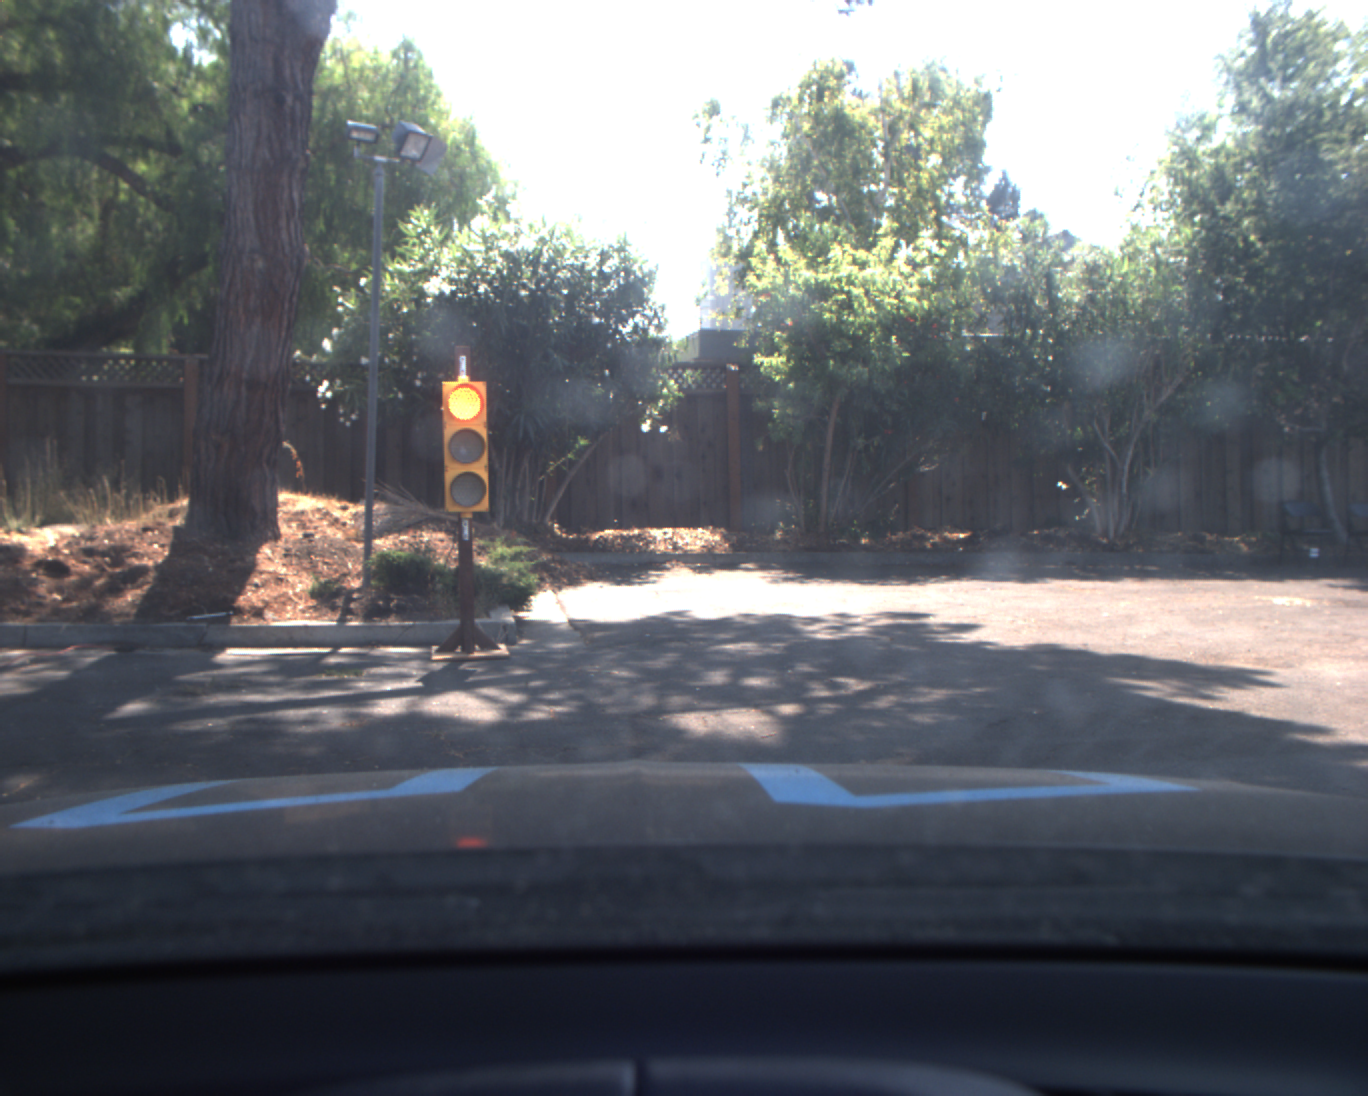red: (438, 379, 493, 514)
